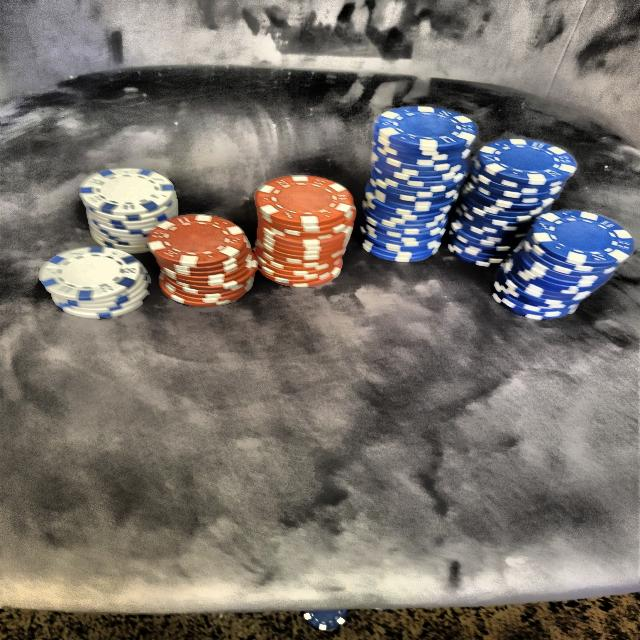Chip: (352, 94, 482, 278), (494, 192, 625, 332), (451, 130, 575, 277), (250, 157, 356, 300), (148, 200, 260, 313), (38, 230, 160, 331), (73, 160, 188, 258)
